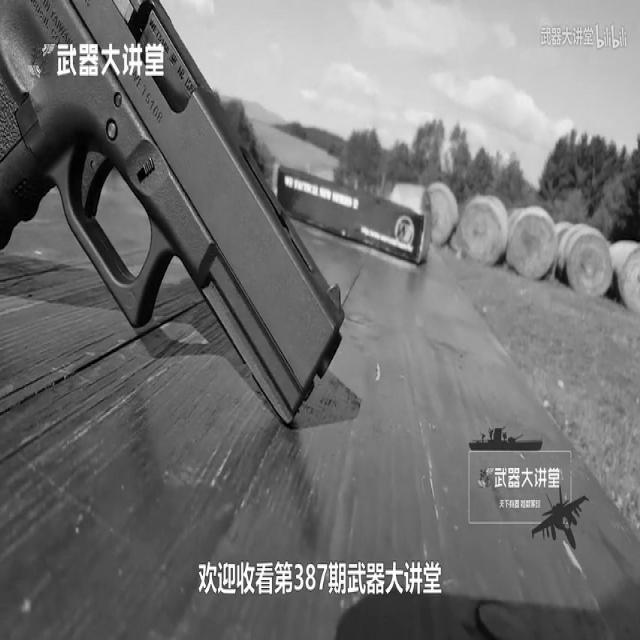Hand-Gun: (6, 0, 375, 513)
